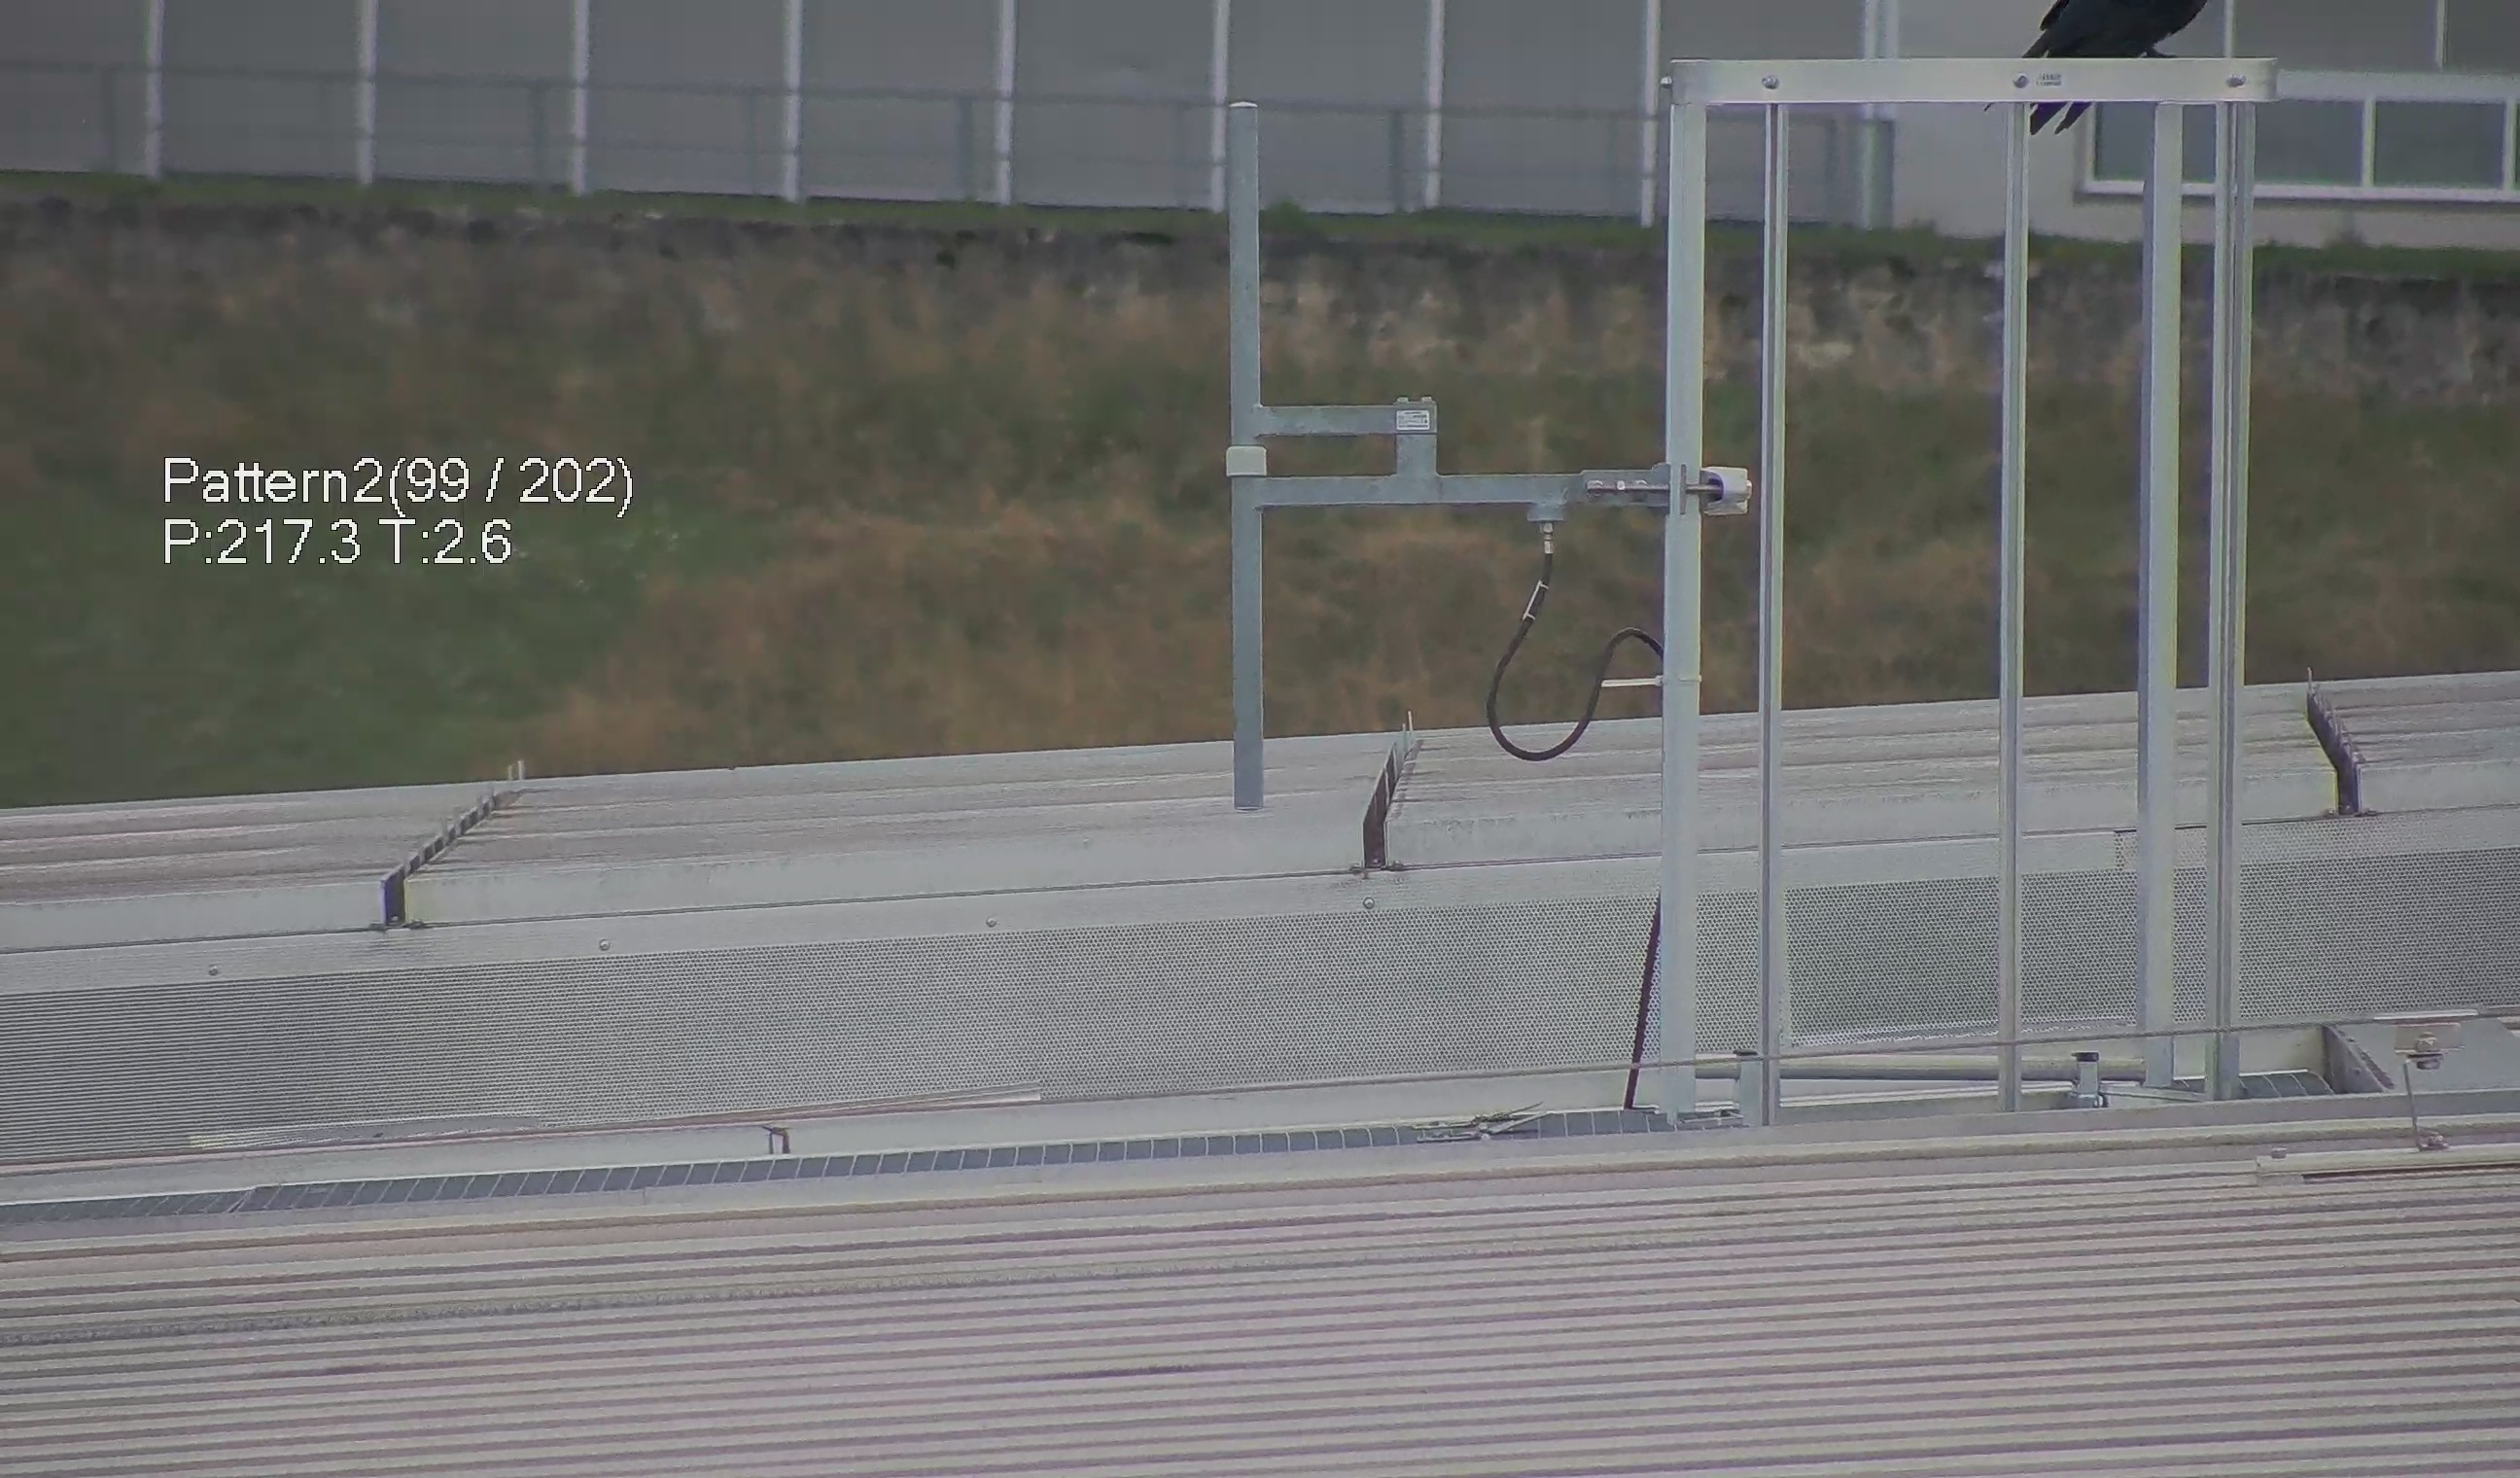Other: (2291, 658, 2392, 834)
